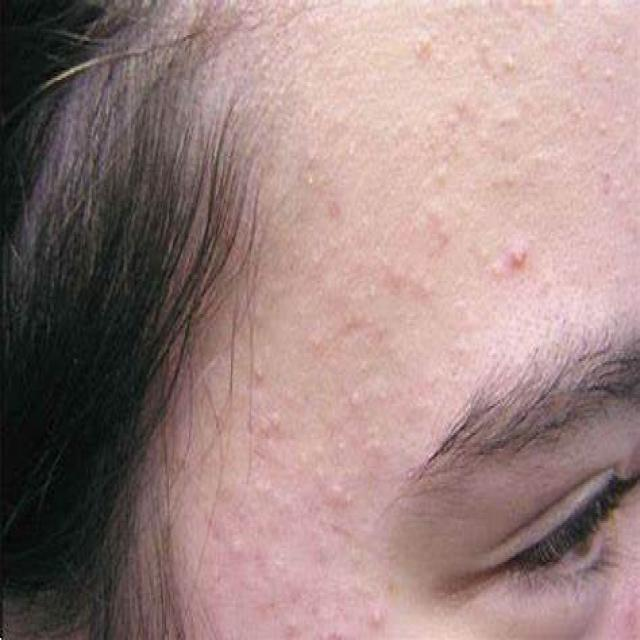fungal: (268, 21, 601, 350), (223, 360, 394, 640)
